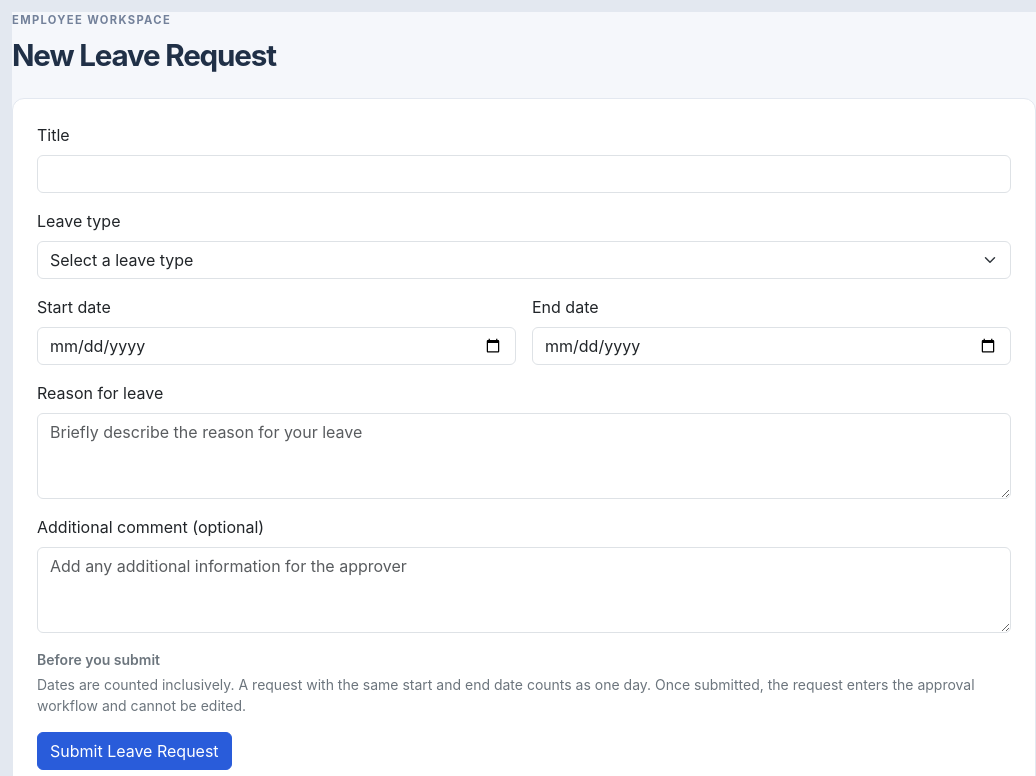
blocks invalid submission before API request
The width and height of the screenshot is (1036, 776).
Click the button "Submit Leave Request".
click(134, 751)  # box [37,732,232,770]
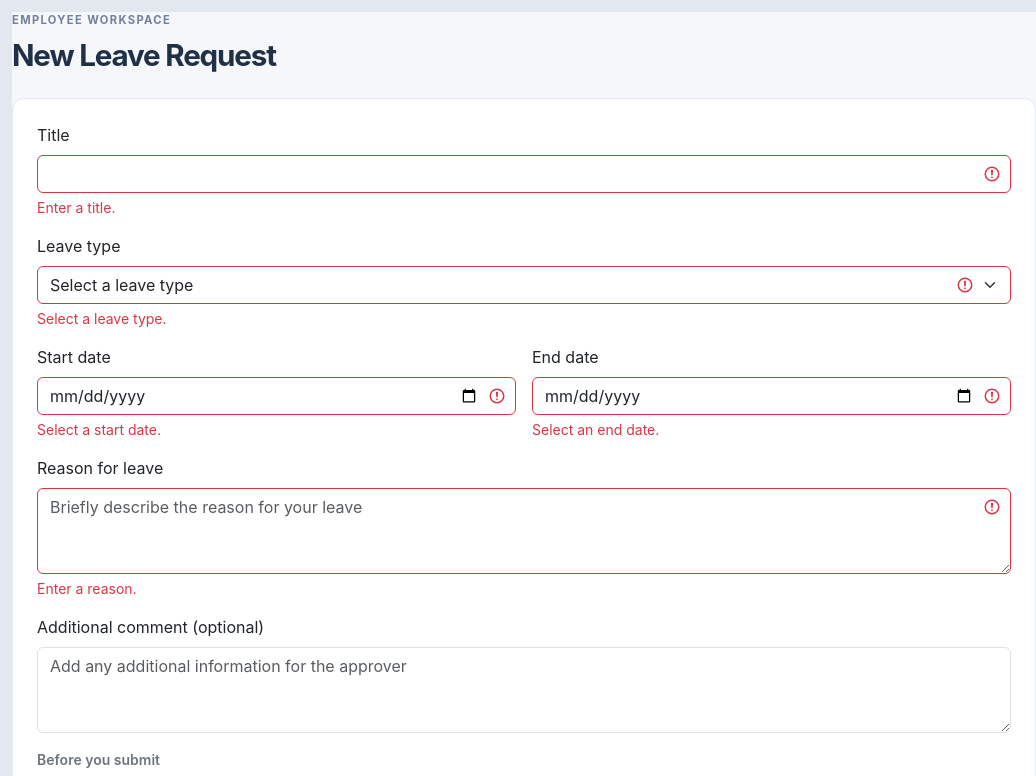
Expected: the text "Enter a title." is shown, [37,199,115,216]
